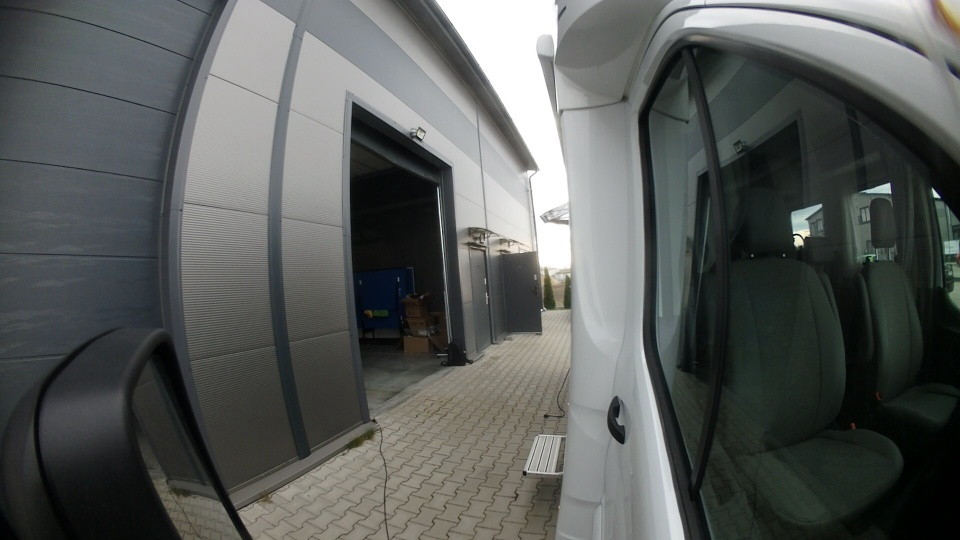step_front: (516, 420, 572, 480)
window_front: (538, 199, 578, 232)
